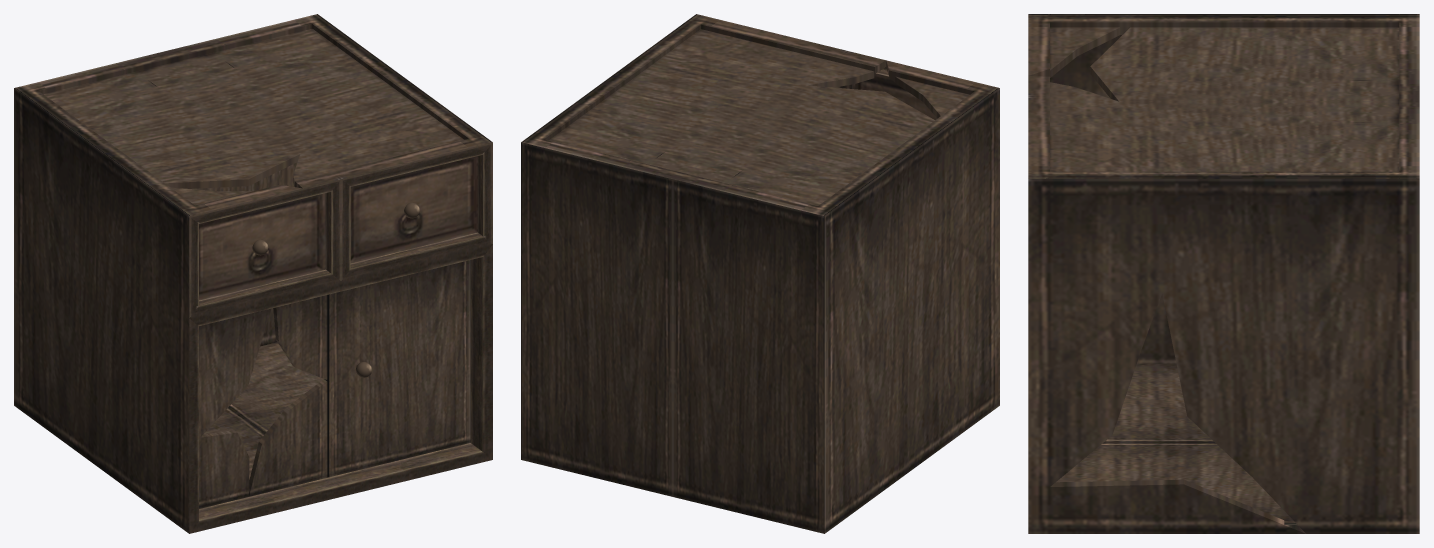
The model's file is Sark_6.FBX.
3 views of the same model, side by side, from view 1: azimuth 30°, elevation 25°; view 2: azimuth 150°, elevation 25°; view 3: azimuth 270°, elevation 25° (orthographic). The views are drawn at different scales.
Visible parts, largest first — view 1: Sark_6; view 2: Sark_6; view 3: Sark_6.
Boxes of the visible parts, x1,y1,x2,y2 form: Sark_6: (14,14,492,533); Sark_6: (521,14,999,533); Sark_6: (1028,14,1419,533).
Bounding box in the file's own units: 31.5 × 31.5 × 31.5.
